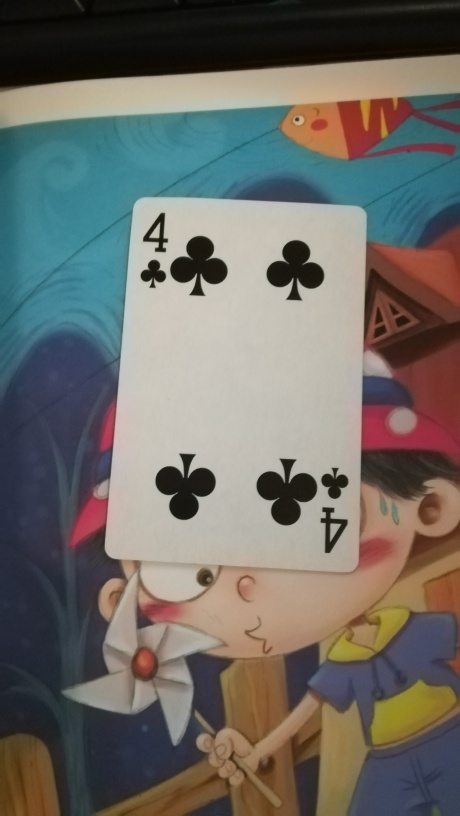mh 4: (104, 193, 367, 580)
